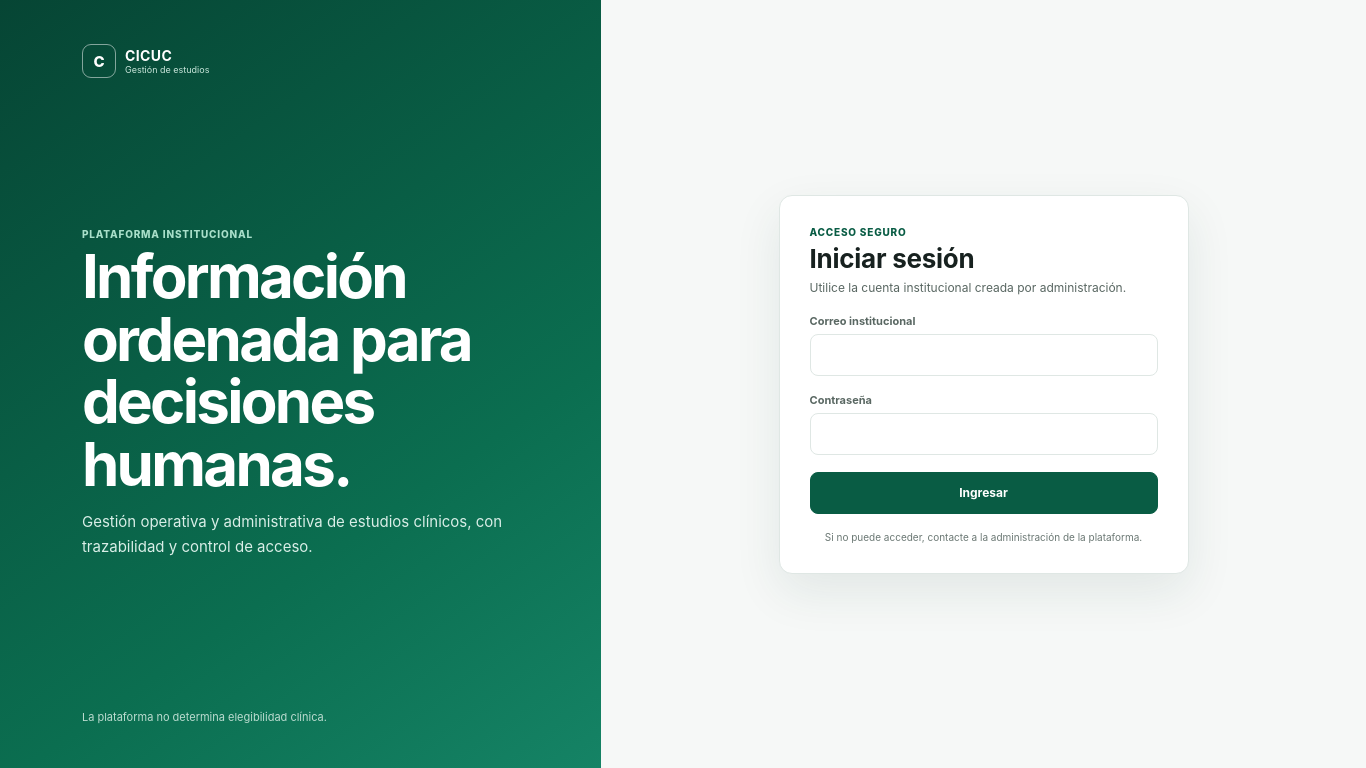
Scenario: Autenticación › muestra un error genérico sin revelar estado de cuenta
Type "nadie@example.com" into the field labelled "Correo institucional". click: [984, 354]
box: x1=810 y1=334 x2=1158 y2=376
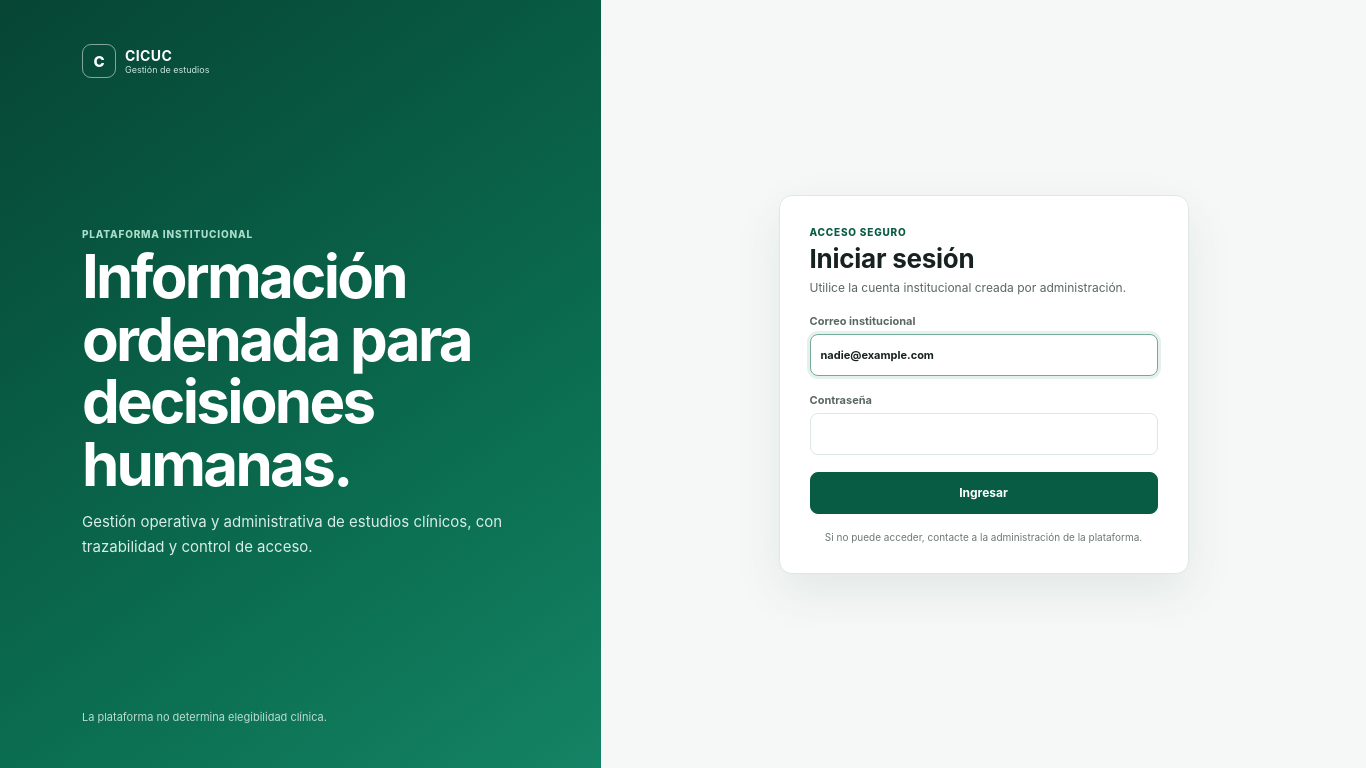
Type "incorrecta" into the password field labelled "Contraseña". click: [984, 434]
box: x1=810 y1=412 x2=1158 y2=454
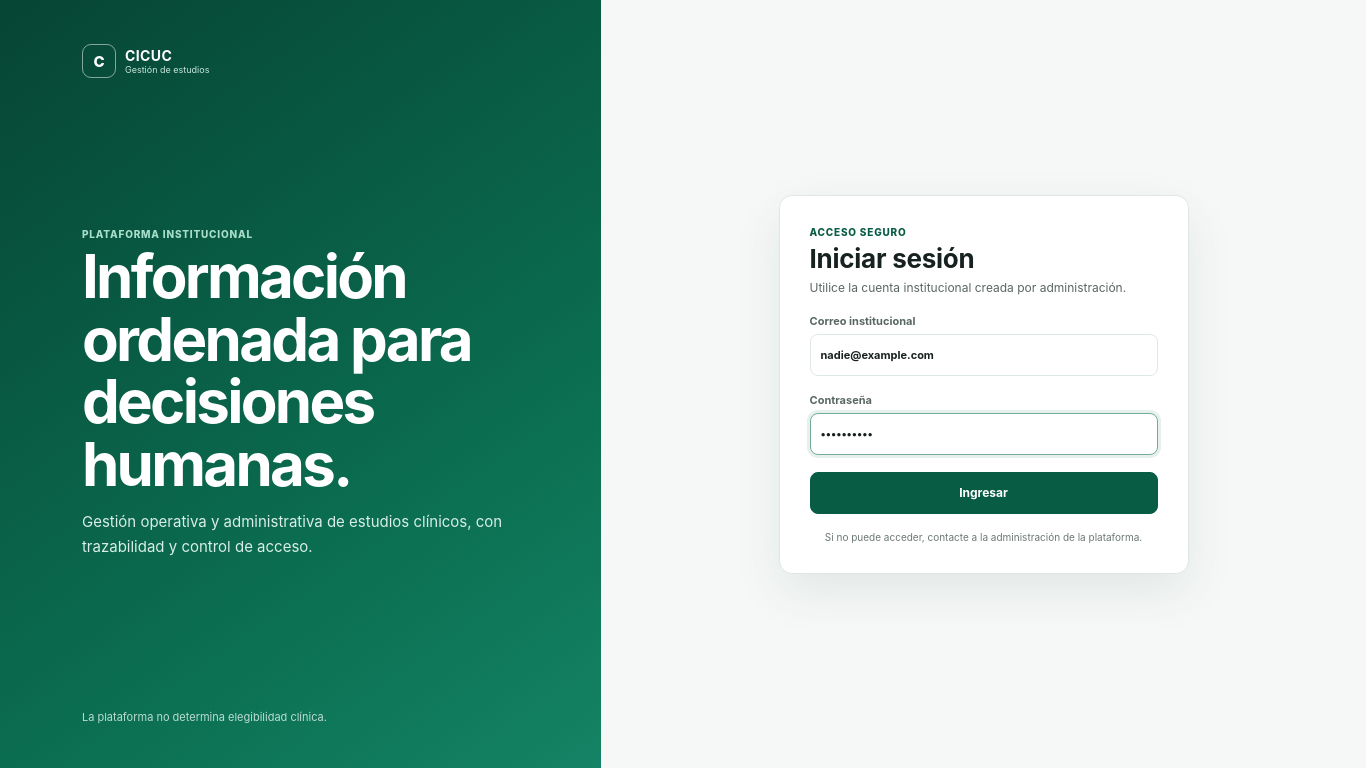
Click the button "Ingresar". click: [984, 492]
box: x1=810 y1=472 x2=1158 y2=514
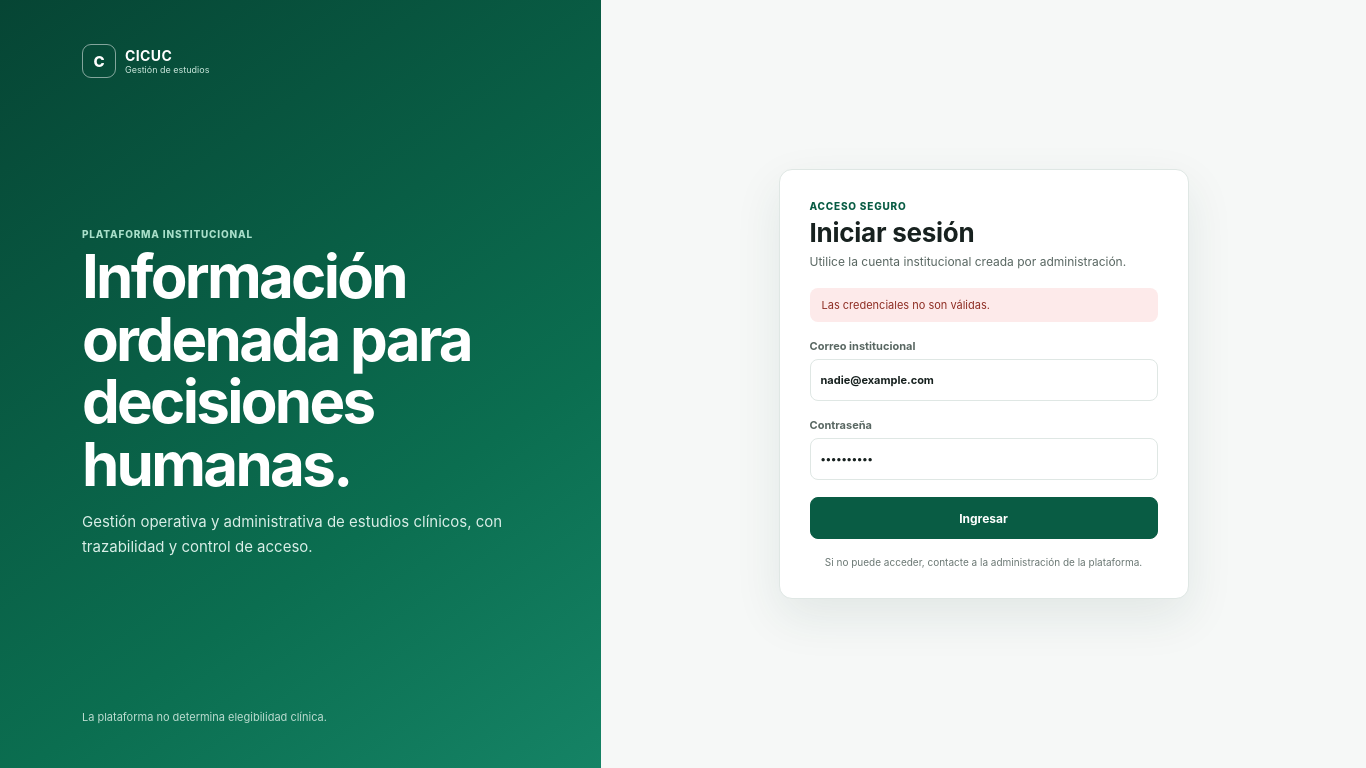
Expected: the message reads "Las credenciales no son válidas.", x1=822 y1=298 x2=990 y2=312
